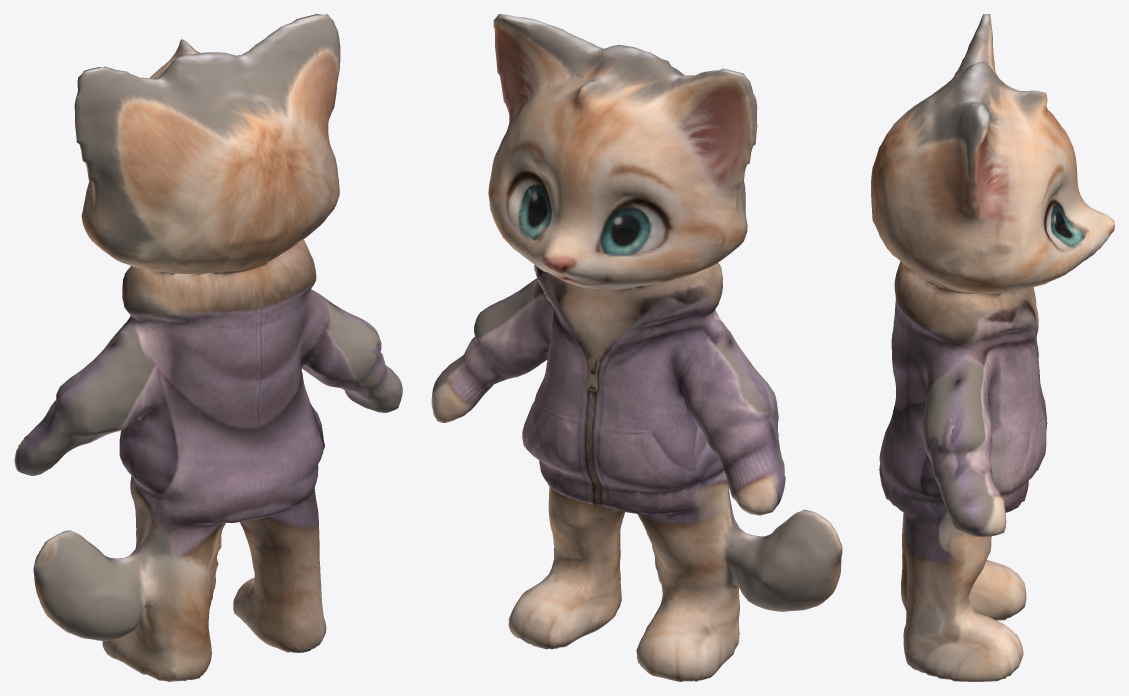
Rendered from milo-threeview-projection-study.glb.
3 renders of one model, left to right at view 1: azimuth 30°, elevation 25°; view 2: azimuth 150°, elevation 25°; view 3: azimuth 270°, elevation 25°, orthographic. The views are drawn at different scales.
Parts seen in each view (by area): view 1: geometry_0; view 2: geometry_0; view 3: geometry_0.
Part boxes in pixels (x1,y1,x2,y2): geometry_0: (14, 14, 402, 681); geometry_0: (431, 14, 842, 681); geometry_0: (871, 14, 1114, 681).
Bounding box in the file's own units: 1.33 × 1.99 × 0.7729.
1 material, 1 textured.
